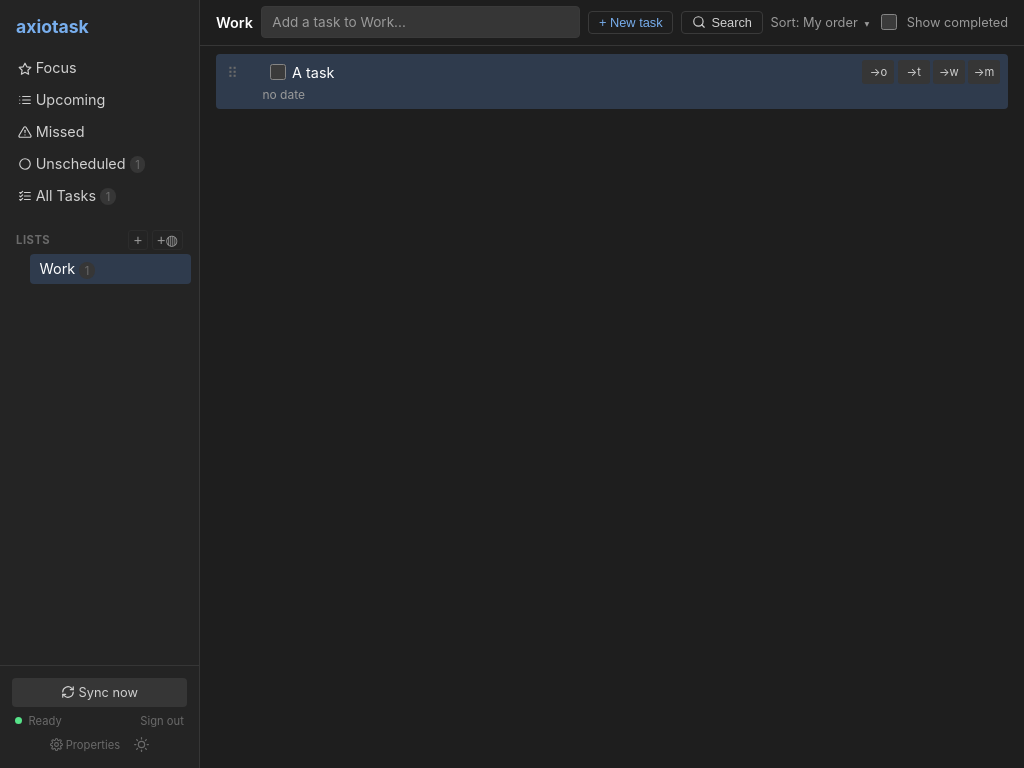
Test: Sort: Dropdown and modes › shows sort options when dropdown is clicked
Expected: the text "A task" is shown, top-left (292, 64), bottom-right (334, 81)
Step 1. Click the text "Sort: My order" → (814, 22), box top-left (770, 15), bottom-right (858, 30)
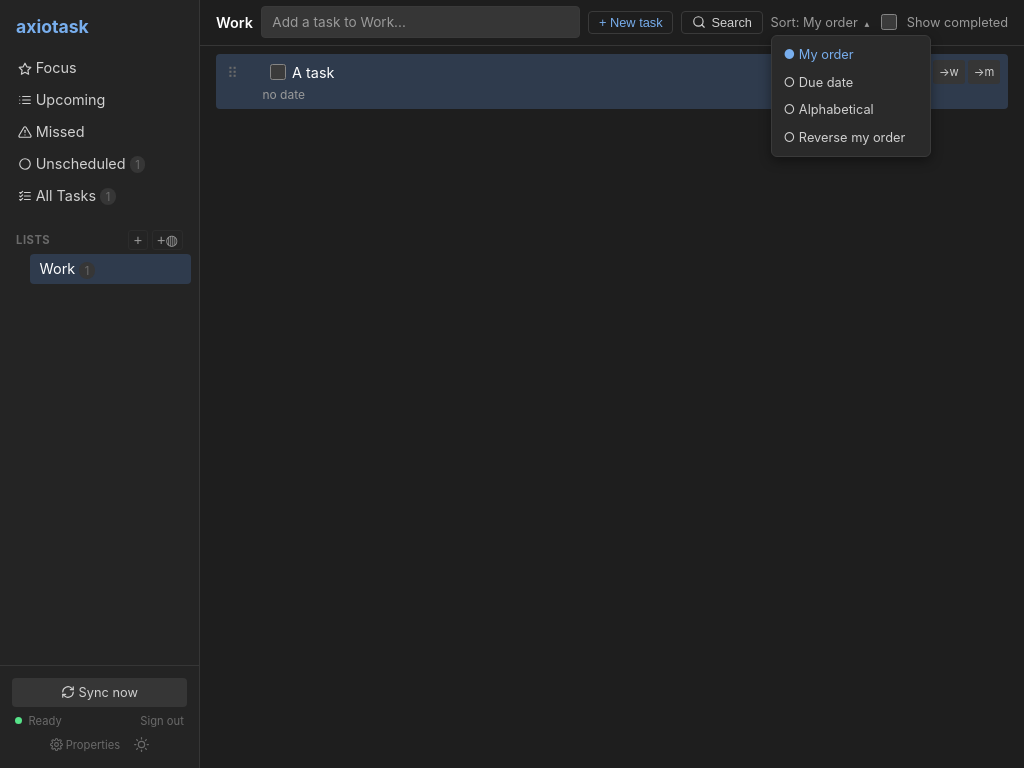
Result: the text "○ Due date" is shown at top-left (784, 75), bottom-right (853, 90)
Result: the text "○ Alphabetical" is shown at top-left (784, 102), bottom-right (874, 117)
Result: the text "○ Reverse my order" is shown at top-left (784, 130), bottom-right (905, 145)
